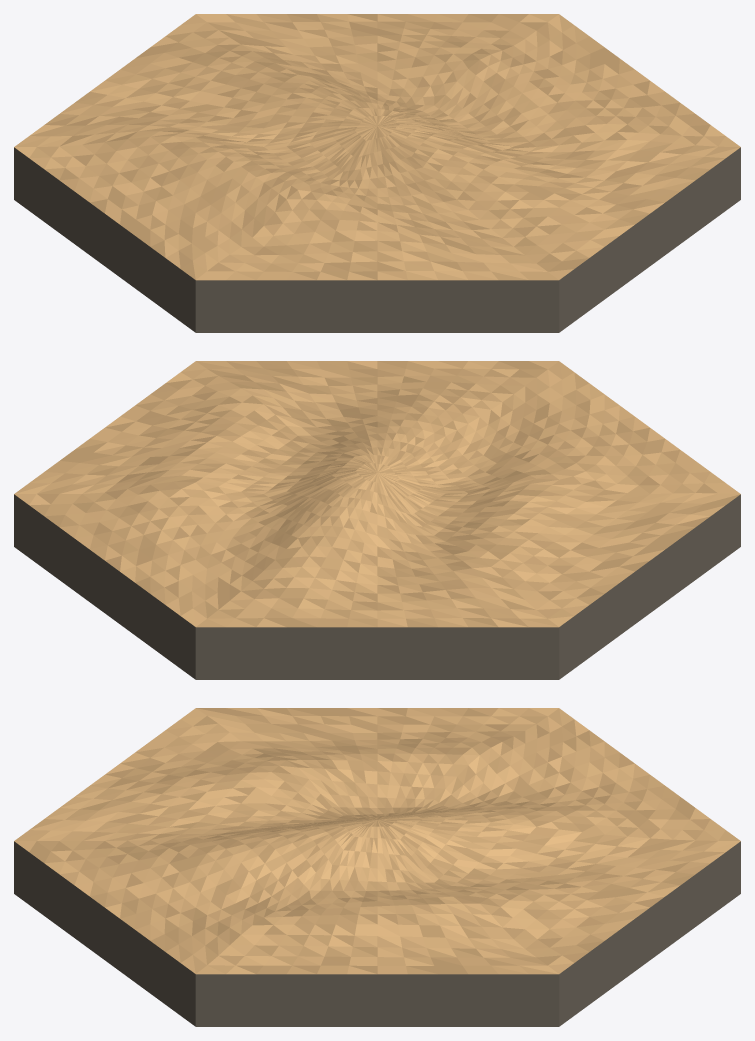
Rendered from TERRAIN_DESERT_v01.fbx.
The picture shows the model from 3 angles, top to bottom: view 1: azimuth 30°, elevation 25°; view 2: azimuth 150°, elevation 25°; view 3: azimuth 270°, elevation 25°; orthographic projection.
Parts seen in each view (by area): view 1: TERRAIN_DESERT_v01; view 2: TERRAIN_DESERT_v01; view 3: TERRAIN_DESERT_v01.
Boxes of the visible parts, box(x1,y1,x2,y2) form: TERRAIN_DESERT_v01: box(14, 14, 740, 332); TERRAIN_DESERT_v01: box(14, 361, 740, 679); TERRAIN_DESERT_v01: box(14, 708, 740, 1026).
Bounding box in the file's own units: 173 × 22.96 × 200.
